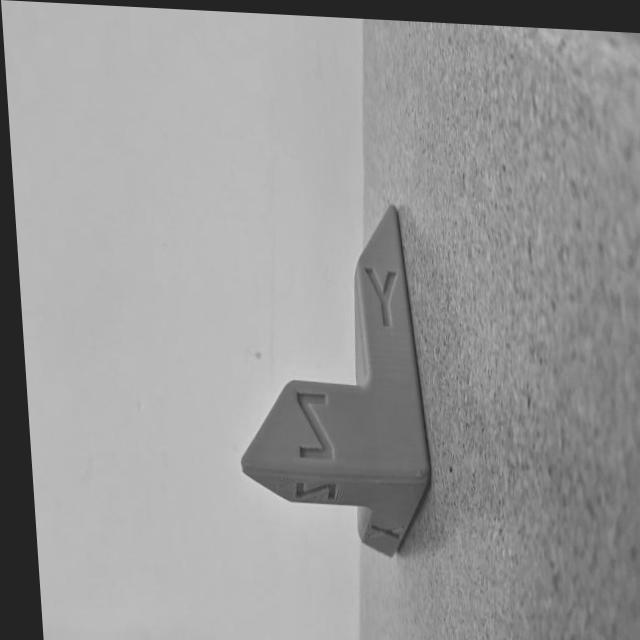eje: (215, 185, 439, 566)
